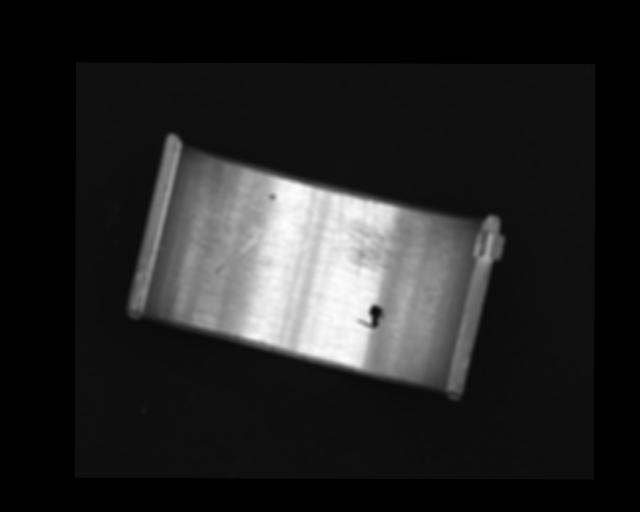blot: (356, 304, 384, 328)
bruise: (266, 192, 276, 201)
nick: (269, 240, 309, 348), (158, 239, 201, 320), (214, 230, 262, 273), (249, 184, 261, 235)
scratch: (328, 193, 439, 275)
